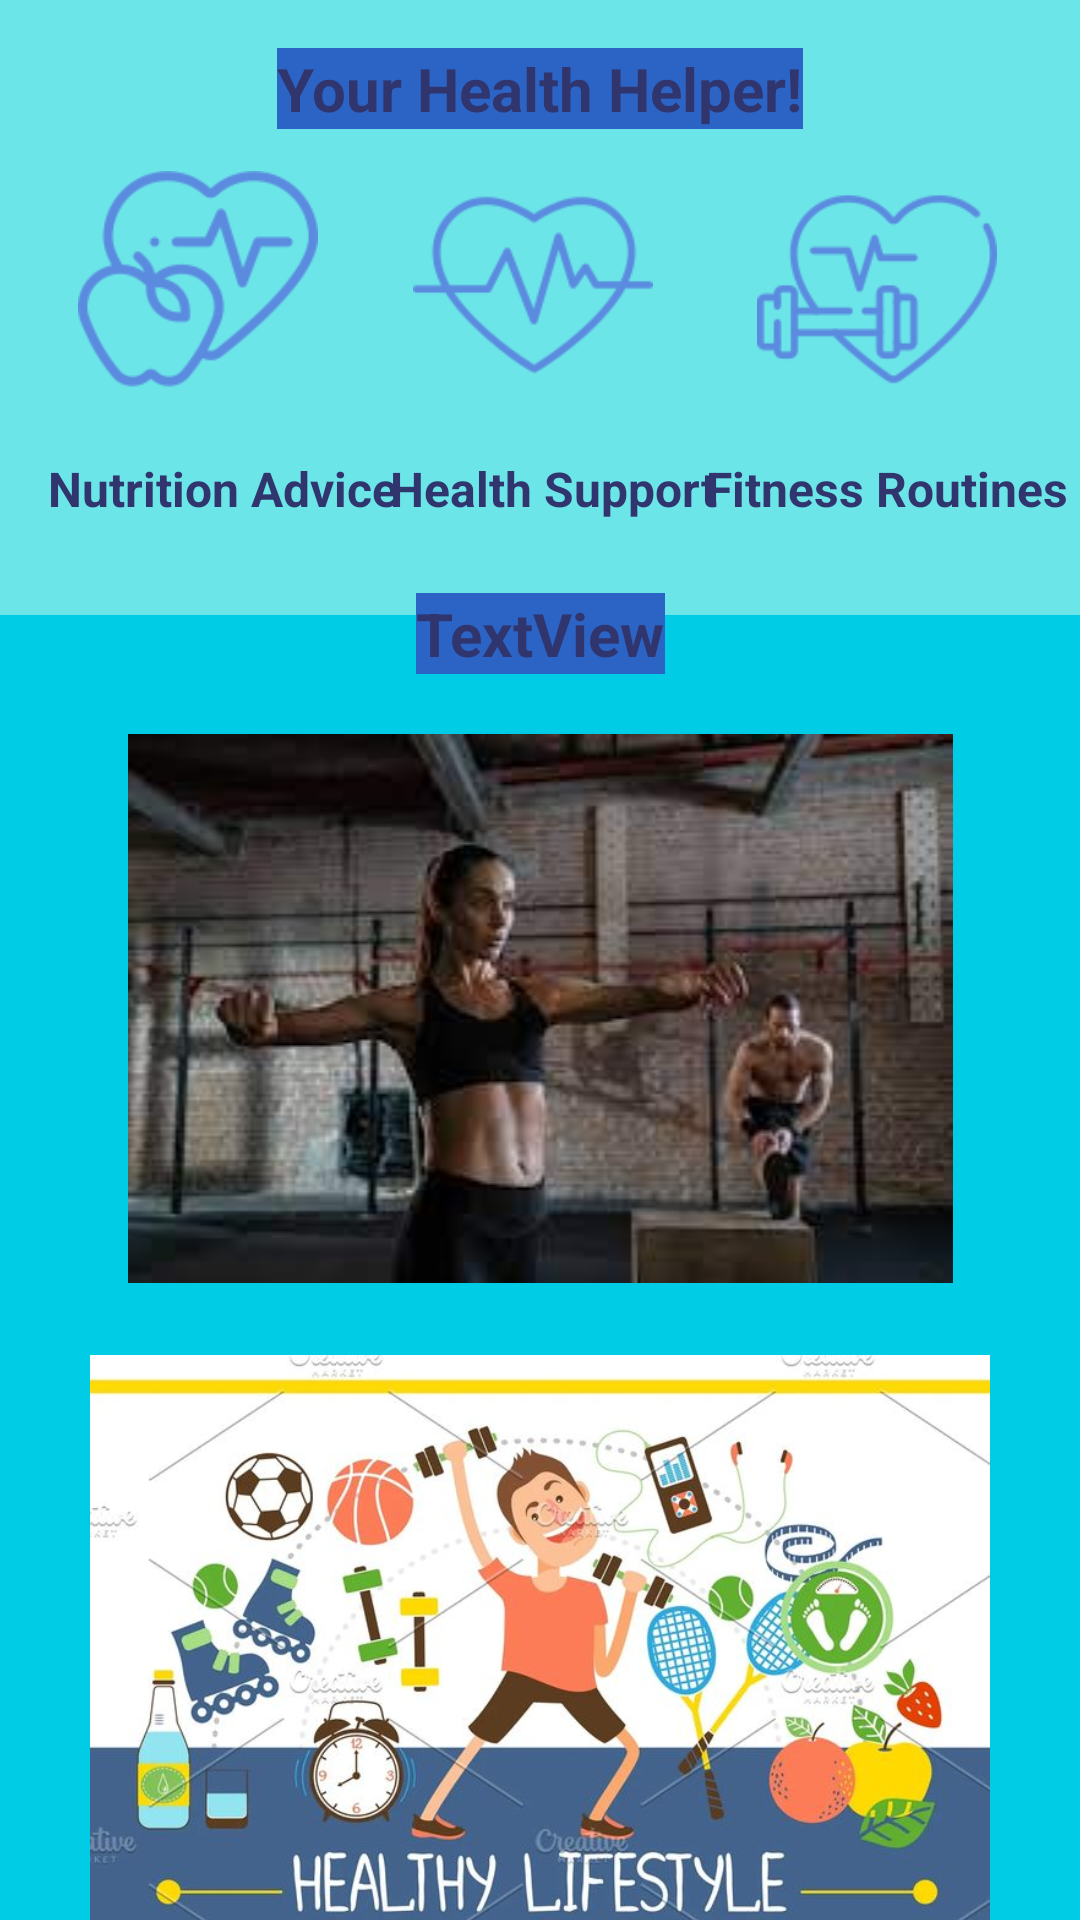

Icon click points for this 1080×1920 phone screenshot, format (x=x, y=y):
heart: (x=533, y=285)
